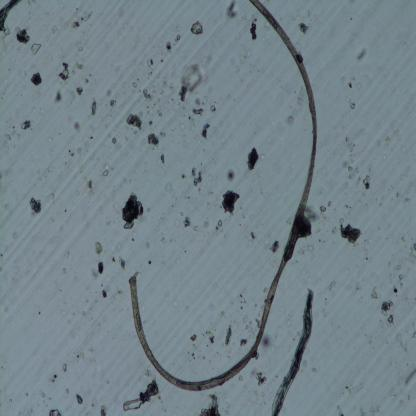Air bubble: (121, 381, 159, 410)
Background material: (119, 191, 144, 231), (178, 59, 205, 94), (338, 221, 363, 249), (223, 186, 242, 218), (199, 394, 225, 415), (302, 210, 318, 241), (70, 12, 94, 32), (346, 273, 365, 297), (380, 298, 395, 326), (74, 346, 94, 365), (324, 270, 341, 292), (197, 327, 216, 346), (237, 44, 255, 64), (126, 112, 144, 132), (110, 284, 126, 305), (0, 32, 13, 57), (346, 380, 365, 397), (225, 0, 240, 21), (160, 179, 176, 198), (16, 25, 32, 43), (188, 20, 206, 36), (198, 121, 212, 140), (12, 404, 34, 416), (259, 334, 274, 351), (222, 325, 233, 348), (247, 147, 258, 170), (190, 166, 203, 185), (405, 366, 416, 388), (213, 215, 225, 235), (237, 290, 248, 311), (241, 315, 253, 334), (178, 84, 190, 103), (52, 45, 67, 60), (73, 56, 87, 72), (109, 239, 124, 253), (66, 144, 81, 158), (59, 62, 70, 81), (29, 198, 42, 214), (296, 84, 304, 110), (93, 240, 105, 257), (256, 370, 267, 388), (341, 138, 355, 152), (101, 109, 113, 125), (369, 284, 380, 301), (30, 42, 43, 56), (146, 133, 159, 147), (397, 262, 404, 288), (52, 90, 64, 105), (34, 167, 46, 182), (30, 72, 42, 87), (270, 238, 280, 256), (347, 96, 358, 112), (356, 47, 367, 63), (146, 54, 155, 73), (354, 174, 366, 188), (333, 401, 344, 416), (362, 174, 372, 190), (203, 197, 214, 211), (19, 119, 33, 130), (408, 241, 416, 260), (298, 21, 308, 36), (250, 21, 257, 42), (192, 106, 204, 118), (186, 332, 198, 344), (410, 316, 416, 340), (286, 113, 297, 126), (77, 160, 87, 174), (208, 101, 218, 115), (142, 87, 152, 101), (74, 115, 82, 132), (100, 399, 108, 416), (118, 256, 127, 271), (183, 193, 194, 205), (389, 282, 400, 294), (130, 79, 140, 92), (347, 165, 355, 181), (227, 170, 237, 182), (200, 216, 210, 228), (248, 225, 256, 240), (240, 336, 249, 349), (48, 408, 62, 416), (204, 55, 212, 69), (158, 152, 166, 166), (109, 97, 119, 108), (61, 361, 71, 372), (90, 101, 97, 116), (183, 215, 191, 228), (154, 108, 164, 118), (318, 204, 328, 214), (356, 406, 366, 416), (188, 349, 197, 360), (75, 86, 84, 97), (48, 374, 59, 383), (76, 392, 83, 406), (97, 262, 104, 276), (86, 178, 94, 190), (35, 86, 43, 98), (383, 133, 390, 146), (49, 164, 56, 177), (144, 367, 153, 377), (160, 234, 168, 245), (45, 131, 53, 142), (38, 106, 46, 117), (101, 288, 108, 300), (180, 170, 188, 180), (90, 268, 96, 281), (322, 308, 329, 319), (165, 41, 172, 52), (84, 74, 90, 86), (144, 257, 152, 266), (236, 374, 244, 383), (6, 131, 12, 143), (61, 264, 68, 274), (196, 184, 203, 194), (148, 117, 154, 128), (207, 354, 213, 365), (394, 191, 402, 199), (174, 34, 181, 43), (160, 128, 166, 138), (398, 396, 404, 406), (105, 88, 112, 96), (144, 242, 151, 250), (337, 218, 345, 225), (41, 388, 46, 399), (81, 308, 86, 319), (327, 199, 332, 210), (102, 168, 108, 177), (52, 26, 58, 35), (404, 194, 410, 203), (347, 83, 353, 91), (88, 134, 94, 142), (381, 154, 387, 162), (48, 191, 54, 199), (152, 83, 156, 94), (160, 260, 167, 266), (77, 46, 83, 53), (192, 224, 198, 231), (156, 97, 162, 104), (83, 298, 90, 304), (311, 366, 317, 373), (344, 203, 351, 209), (112, 136, 116, 146), (146, 207, 152, 213), (158, 89, 164, 95), (402, 235, 406, 244), (363, 255, 370, 260), (111, 255, 116, 262), (180, 210, 184, 218), (318, 237, 323, 243), (187, 114, 192, 120), (130, 236, 135, 242), (163, 80, 168, 86), (160, 58, 164, 63), (258, 319, 260, 329), (146, 105, 150, 109), (146, 110, 149, 114), (26, 393, 29, 396)
Cellulose filter fibre: (272, 288, 315, 416), (0, 1, 23, 32)
Microfibre: (129, 0, 319, 391)
